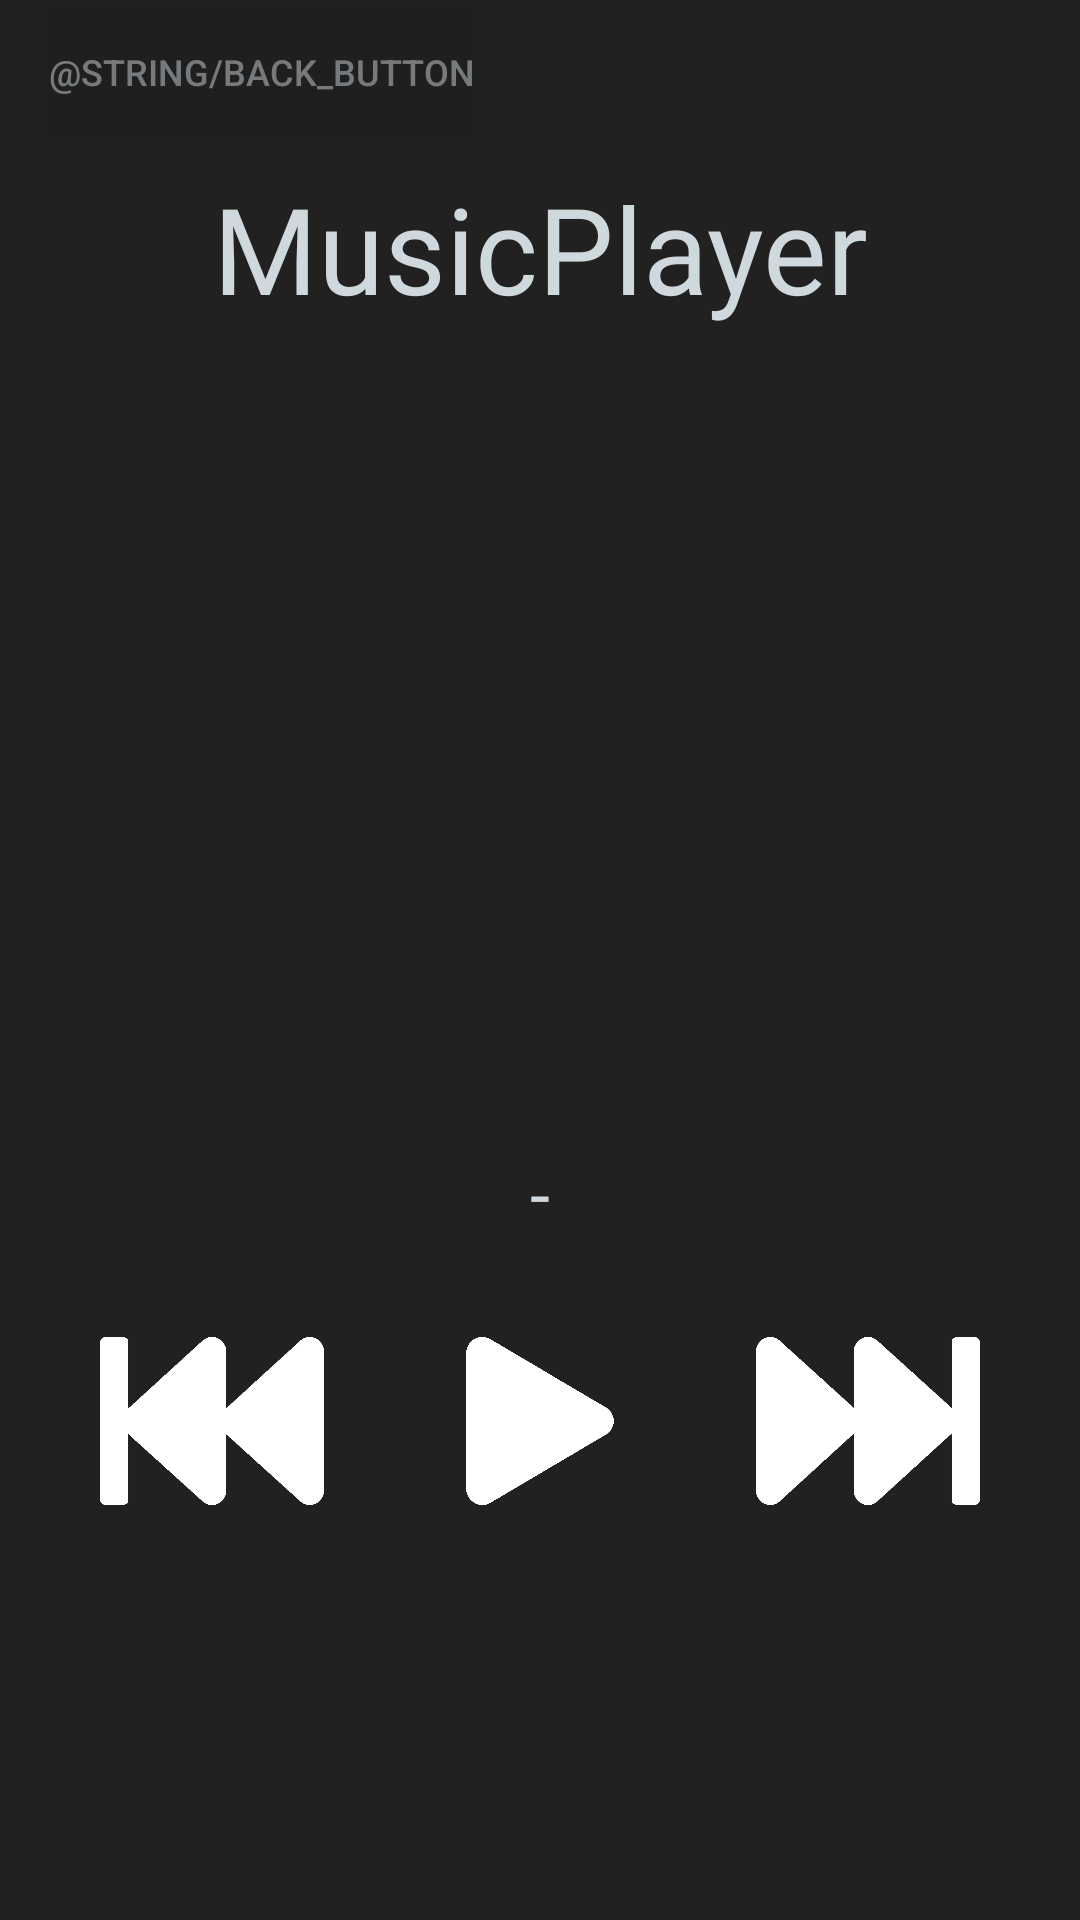

Icons on this 1080*1920 Android screen, each with the point to tap as [x,y]:
fastbackward: [212,1421]
fastforward: [868,1421]
play: [540,1421]
